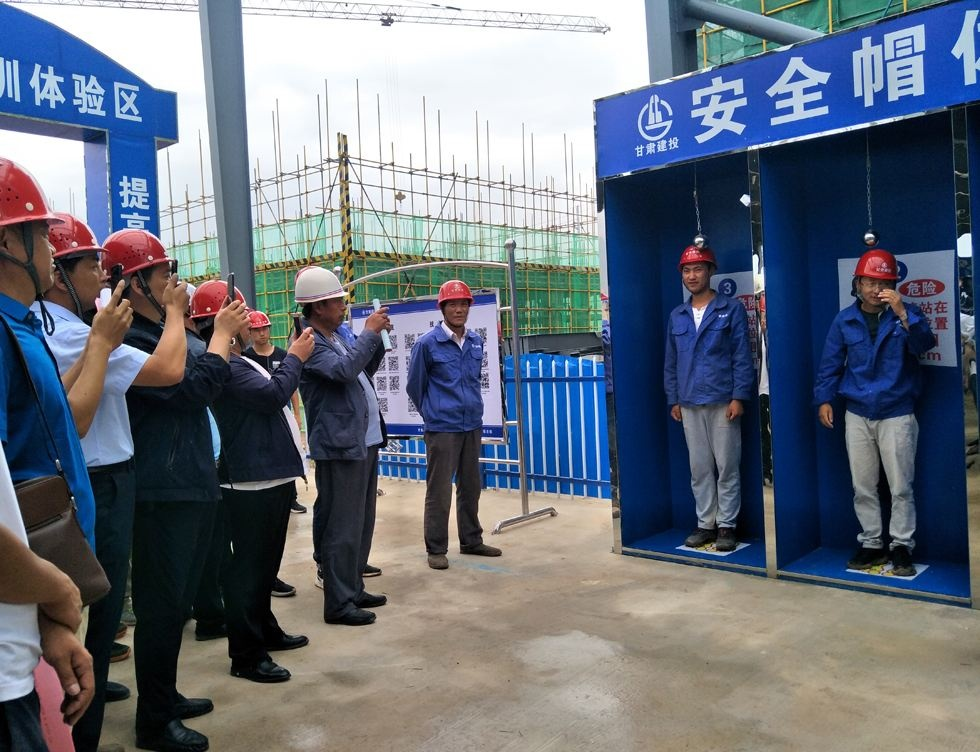red: (1, 155, 58, 304), (99, 226, 179, 318), (43, 208, 105, 308), (190, 278, 246, 338), (854, 248, 898, 309), (437, 278, 474, 329), (680, 245, 715, 291), (245, 307, 273, 345)
white: (295, 267, 348, 329)
